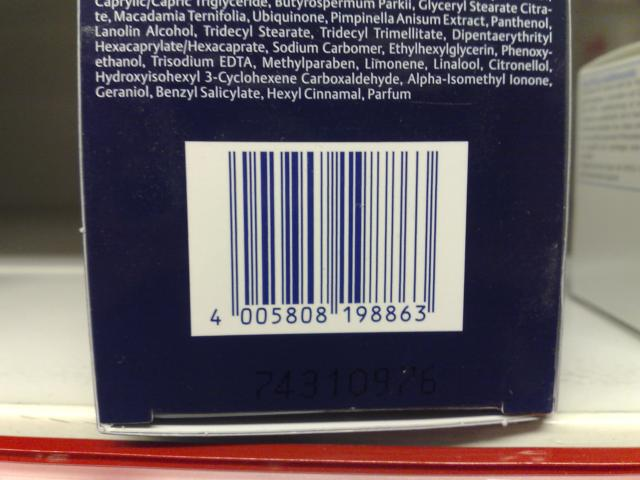Barkod: (224, 148, 437, 302)
